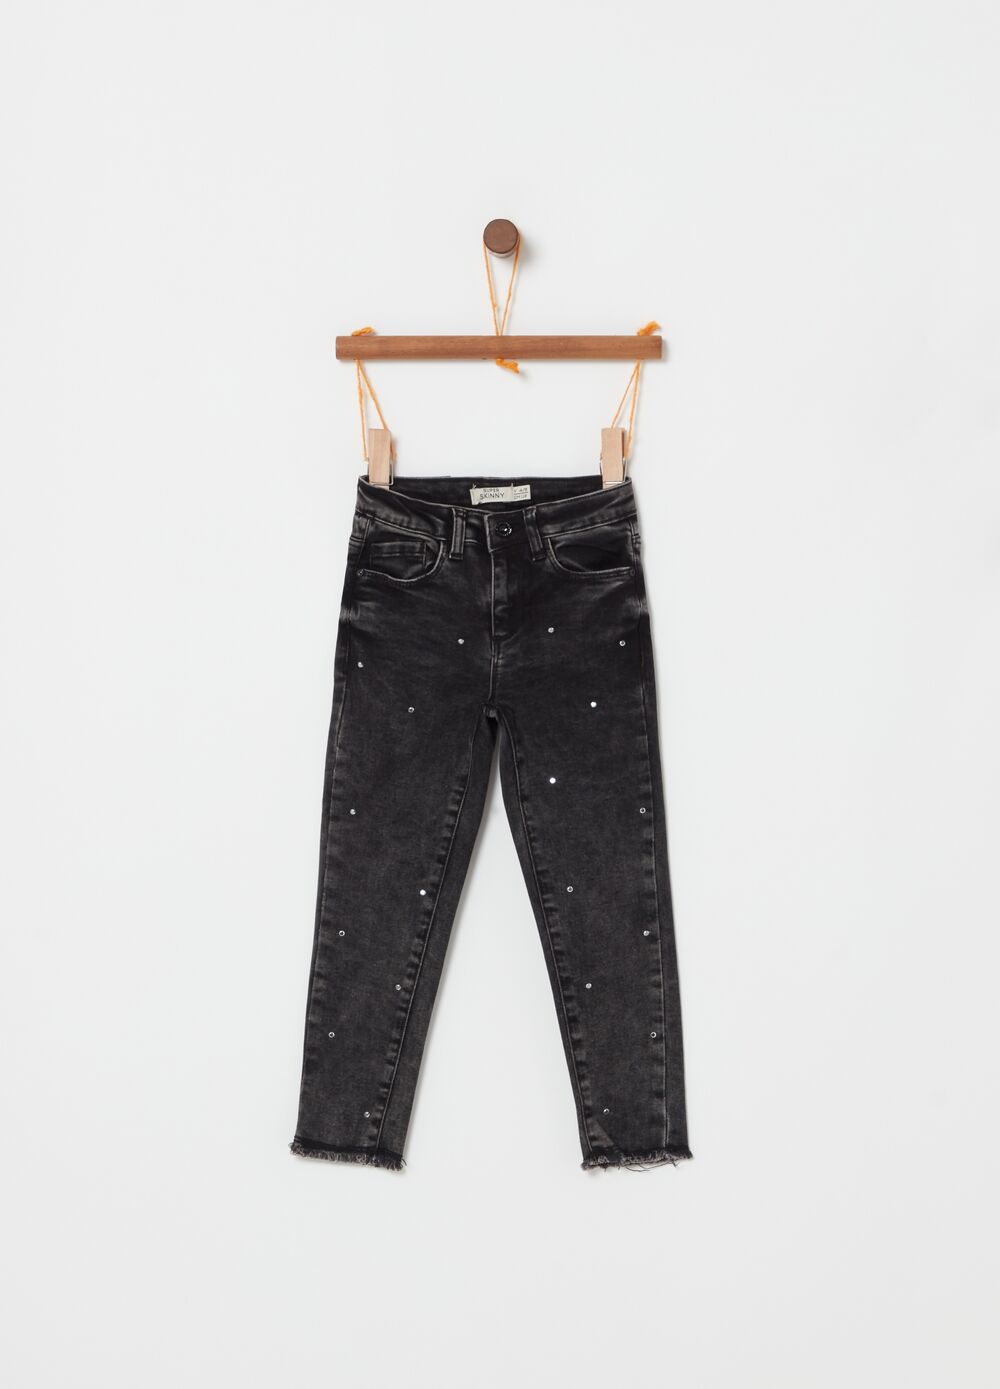jeans: (282, 462, 715, 1175)
